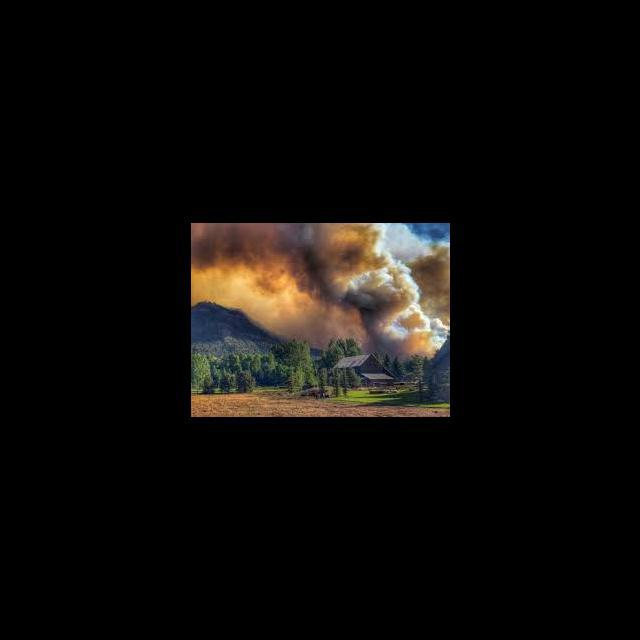Smoke: (192, 223, 449, 305)
